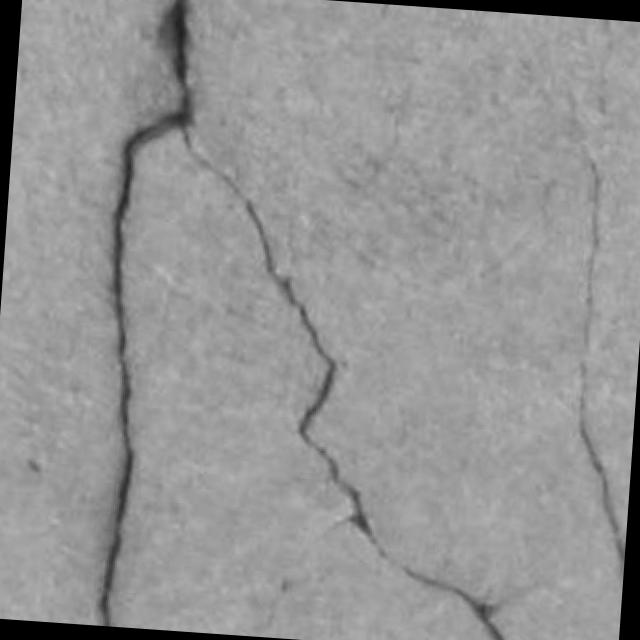crack: (101, 0, 506, 639), (99, 95, 189, 626), (578, 147, 625, 576), (578, 157, 625, 576)
